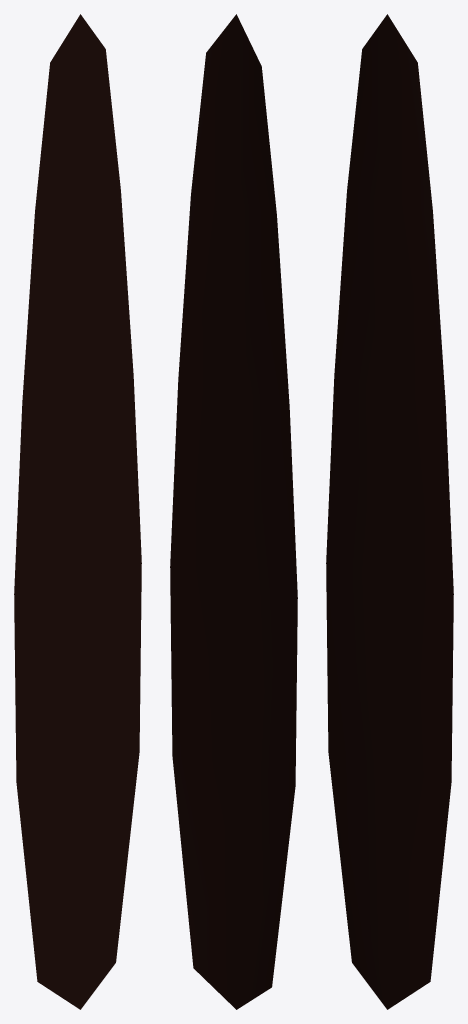
Rendered from pheasant_feather_flight_primary_009.obj.
3 views of the same model, side by side, from view 1: azimuth 30°, elevation 25°; view 2: azimuth 150°, elevation 25°; view 3: azimuth 330°, elevation 25° (orthographic).
Visible parts, largest first — view 1: feather_flight_primary_009; view 2: feather_flight_primary_009; view 3: feather_flight_primary_009.
Boxes of the visible parts, <box> form: feather_flight_primary_009: <box>14,14,141,1009</box>; feather_flight_primary_009: <box>170,14,297,1009</box>; feather_flight_primary_009: <box>326,14,453,1009</box>.
Size of the model in its own units: 0.0192 by 0.1434 by 0.001.
